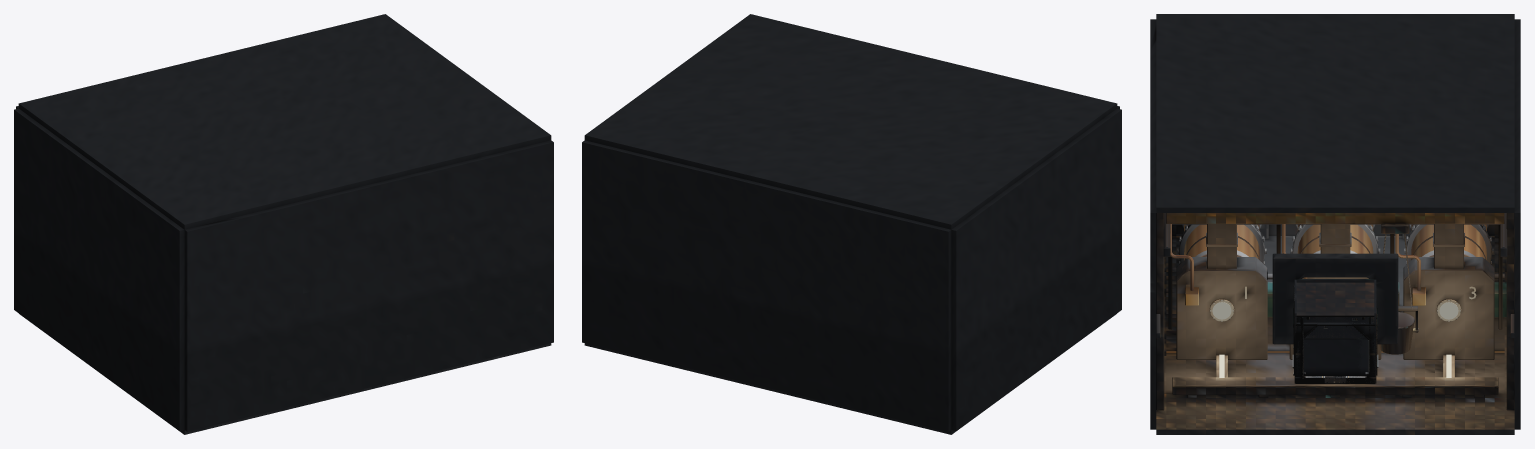
Rendered from EisenkroneDeck.glb.
3 renders of one model, left to right at view 1: azimuth 30°, elevation 25°; view 2: azimuth 150°, elevation 25°; view 3: azimuth 270°, elevation 25°, orthographic. The views are drawn at different scales.
Parts seen in each view (by area): view 1: m56; view 2: m56; view 3: m56, m43, m58, m8, m0, m81, m4, m14, m12, m22.
Boxes of the visible parts, bbox=[...] form: m56: bbox=[14, 14, 553, 434]; m56: bbox=[582, 14, 1121, 434]; m56: bbox=[1150, 14, 1520, 434]; m43: bbox=[1272, 253, 1398, 344]; m58: bbox=[1295, 282, 1374, 320]; m8: bbox=[1293, 301, 1364, 383]; m0: bbox=[1292, 279, 1378, 383]; m81: bbox=[1294, 286, 1374, 378]; m4: bbox=[1295, 325, 1375, 383]; m14: bbox=[1293, 324, 1369, 383]; m12: bbox=[1325, 338, 1370, 382]; m22: bbox=[1296, 279, 1374, 377].
Size of the model in its own units: 27.16 by 12.6 by 18.6.
